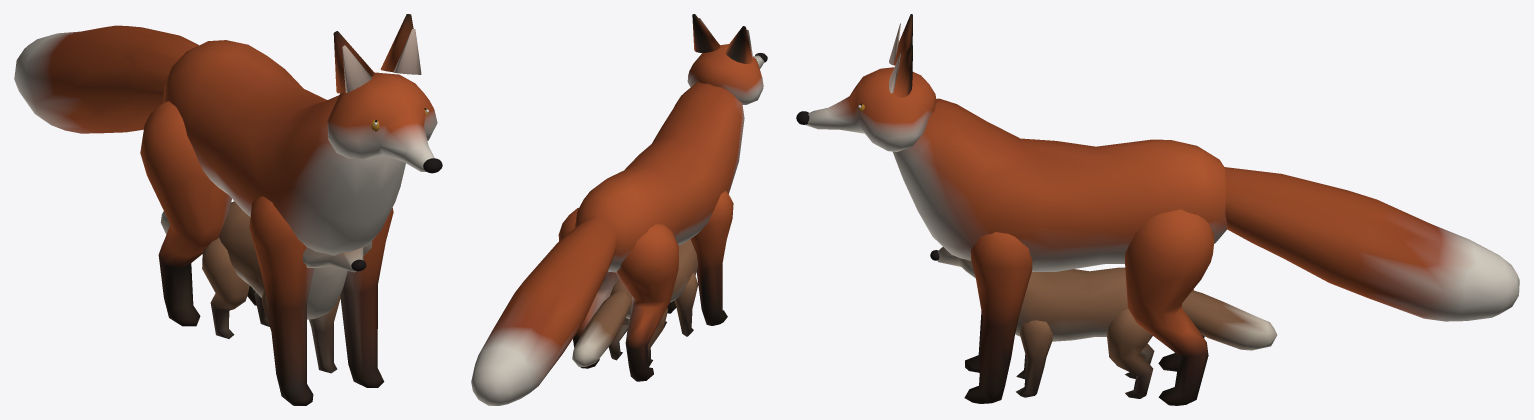
Rendered from beasts.glb.
3 renders of one model, left to right at view 1: azimuth 30°, elevation 25°; view 2: azimuth 150°, elevation 25°; view 3: azimuth 270°, elevation 25°, orthographic. The views are drawn at different scales.
Parts seen in each view (by area): view 1: fox, cub; view 2: fox, cub; view 3: fox, cub.
Boxes of the visible parts, bbox=[...] form: fox: bbox=[14, 14, 442, 405]; cub: bbox=[160, 201, 372, 373]; fox: bbox=[471, 14, 767, 405]; cub: bbox=[572, 239, 698, 367]; fox: bbox=[796, 14, 1519, 405]; cub: bbox=[930, 247, 1277, 398].
Size of the model in its own units: 0.2952 by 0.7007 by 1.28.
